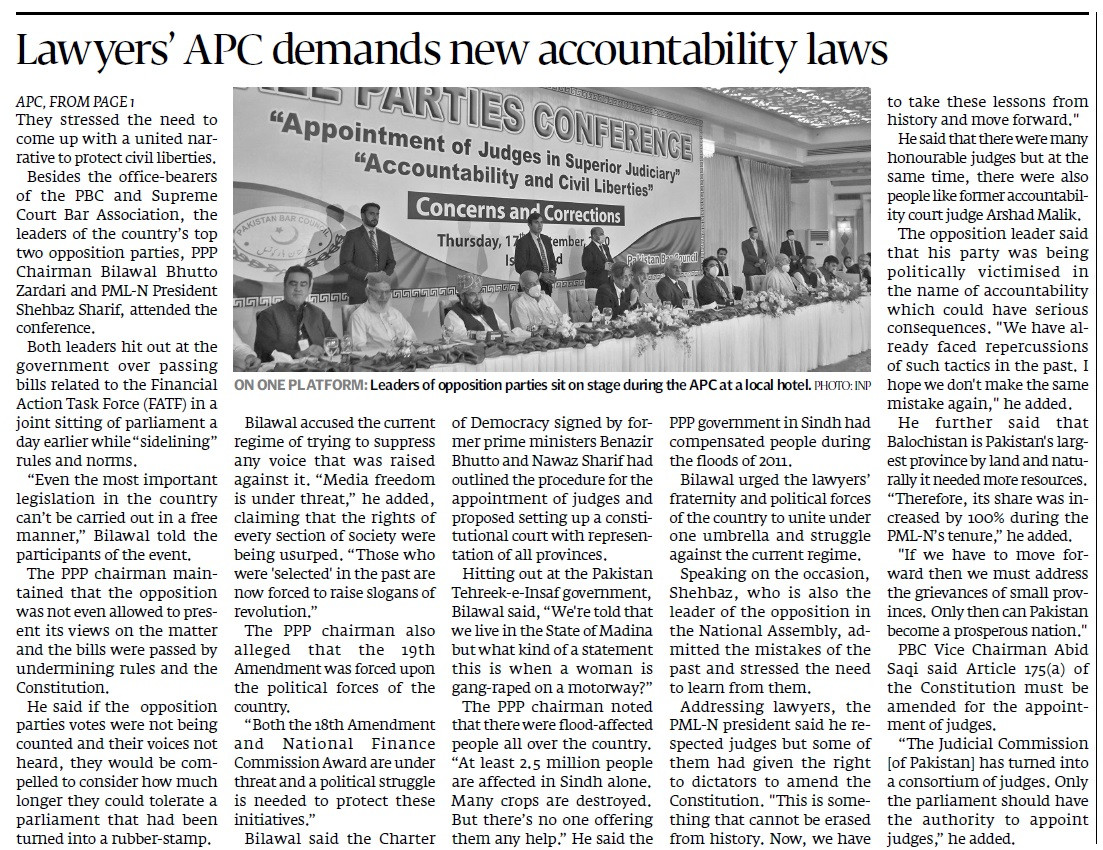news_paper: (8, 6, 1103, 850)
